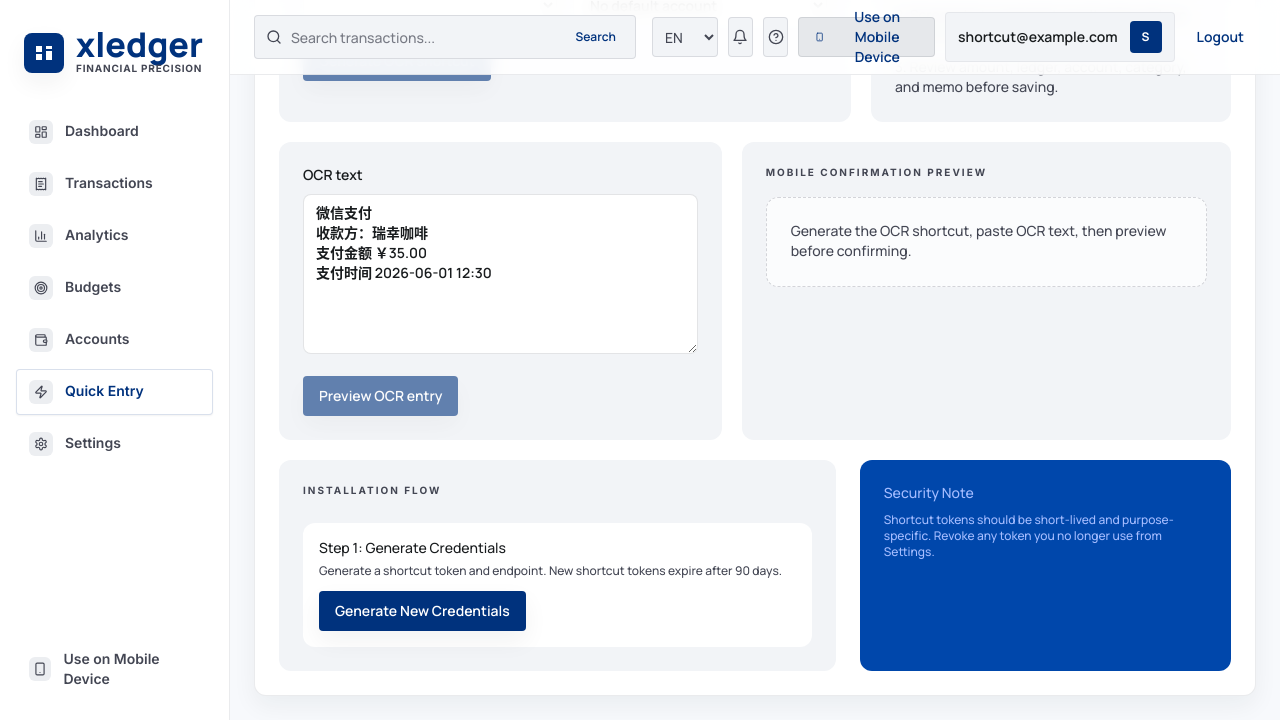
Test: shortcut page › shows a same-origin endpoint and a concrete JSON example after generating credentials
(page scrolled)
What coordinates should you click on to do the following:
click the button "Generate New Credentials"
I would click on:
 (422, 611)
Its box is [319, 591, 526, 631].
(page scrolled)
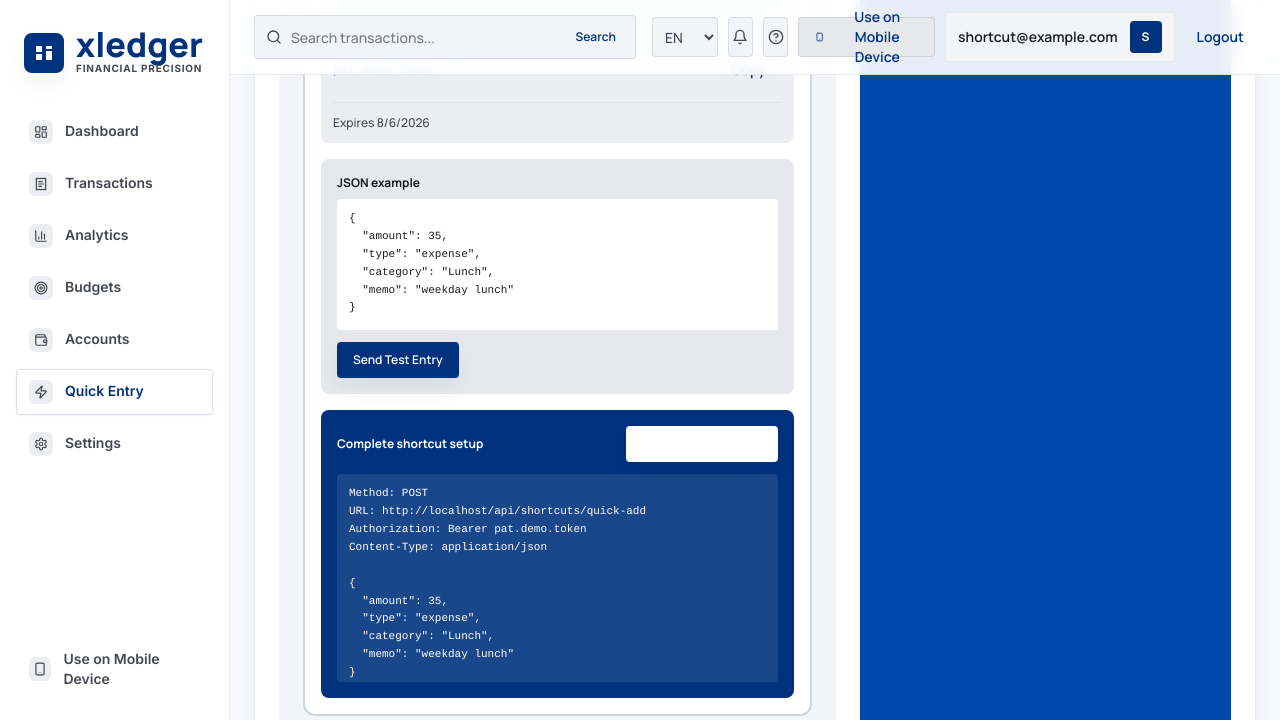
Check: the text "\"category\": \"Lunch\"" is shown, box [349, 213, 514, 314]
Check: the button "Copy Shortcut Setup" is shown, box [626, 426, 778, 462]
Check: the text "Method: POST" is shown, box [349, 488, 646, 679]
What coordinates should you click on to do the following:
click the button "Send Test Entry"
I would click on:
 (398, 360)
Its box is [337, 342, 458, 378].
(page scrolled)
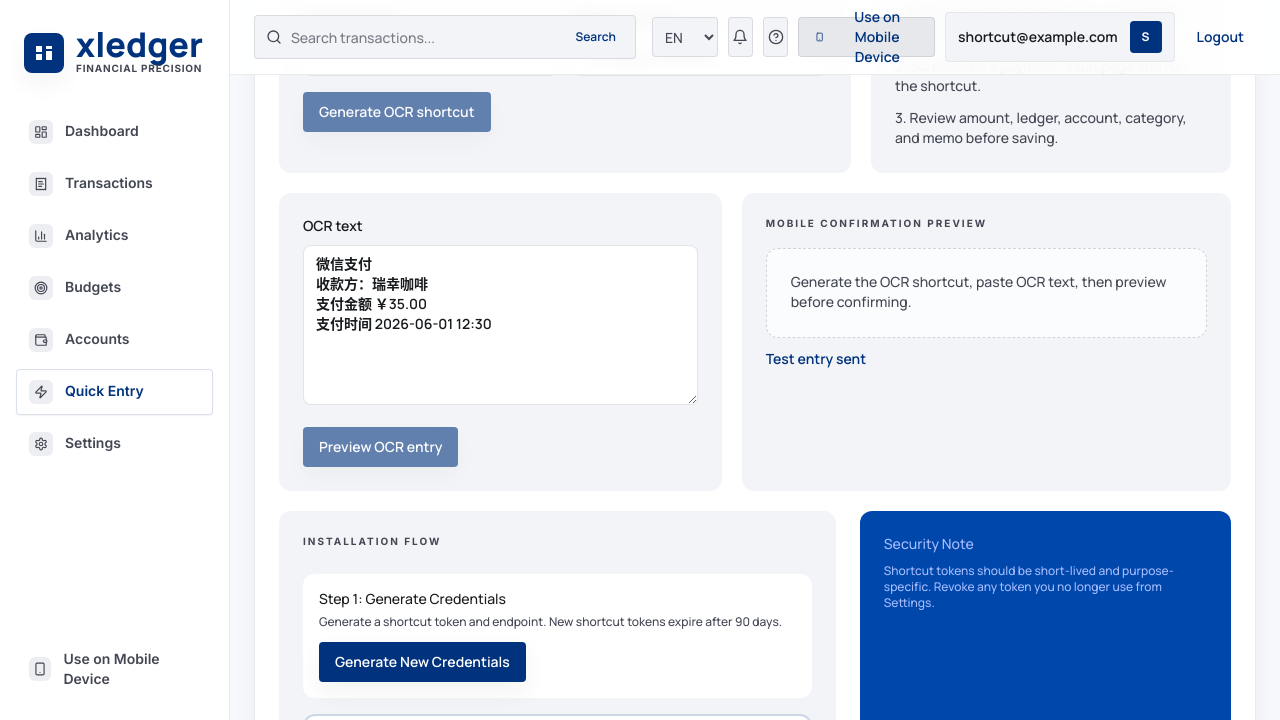
Check: the message reads "Test entry sent", box [766, 350, 866, 369]
